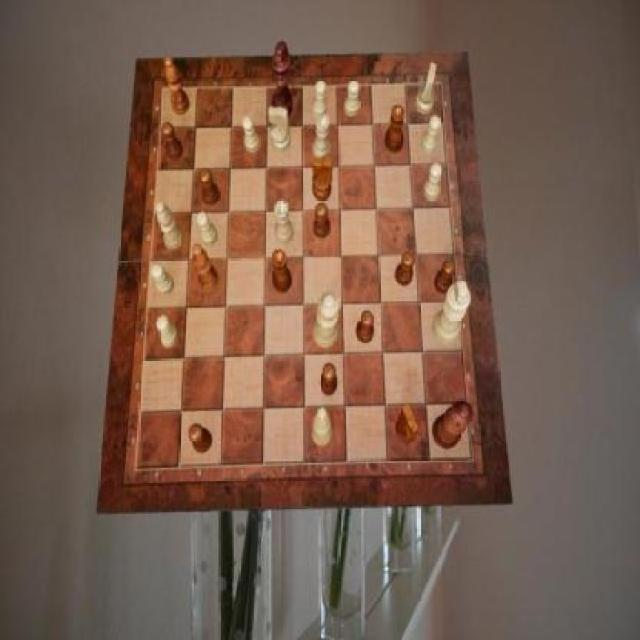bishop: (166, 57, 191, 117), (192, 243, 220, 292)
black-bishop: (272, 40, 293, 120)
black-king: (312, 155, 333, 201), (396, 404, 420, 444)
black-knight: (161, 122, 184, 160), (189, 423, 213, 454), (200, 170, 220, 206), (396, 251, 416, 285), (436, 259, 456, 293), (320, 363, 338, 397), (356, 310, 374, 344), (314, 203, 331, 239)
black-pawn: (432, 400, 473, 451)
black-queen: (386, 104, 406, 154), (272, 249, 292, 293)
black-rook: (157, 202, 185, 250), (312, 408, 333, 448)
white-bishop: (434, 278, 471, 344)
white-king: (415, 63, 438, 114), (269, 106, 292, 152)
white-knight: (422, 116, 442, 156), (155, 316, 178, 350), (151, 265, 174, 297), (423, 163, 442, 201), (197, 211, 218, 245), (242, 115, 259, 154), (311, 80, 327, 118), (344, 80, 360, 118)
white-pawn: (312, 291, 340, 348)
white-queen: (274, 198, 294, 244), (313, 114, 332, 161)
